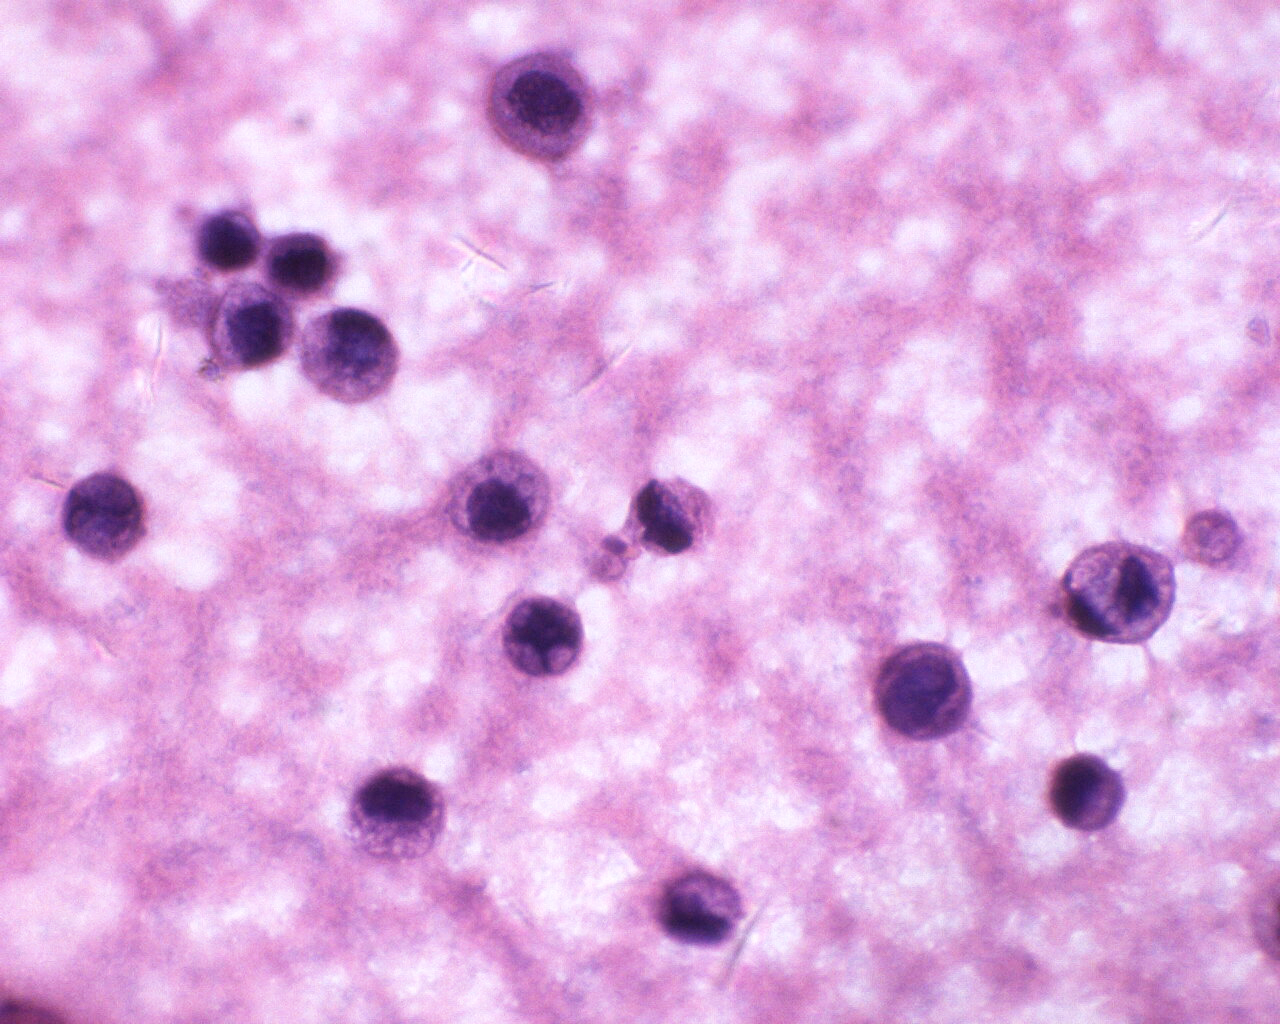ab: (484, 48, 599, 164), (294, 306, 405, 414), (446, 441, 553, 549), (55, 465, 161, 571), (875, 637, 975, 744), (349, 764, 449, 862), (205, 278, 297, 371), (655, 866, 748, 955), (503, 591, 588, 682), (1048, 747, 1131, 836), (256, 222, 338, 298), (197, 206, 264, 278)
